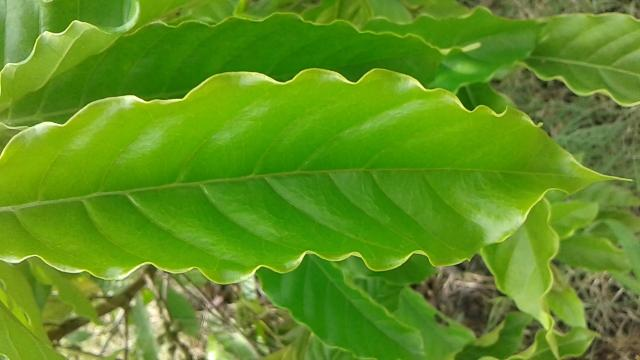healthy: (0, 62, 640, 290)
